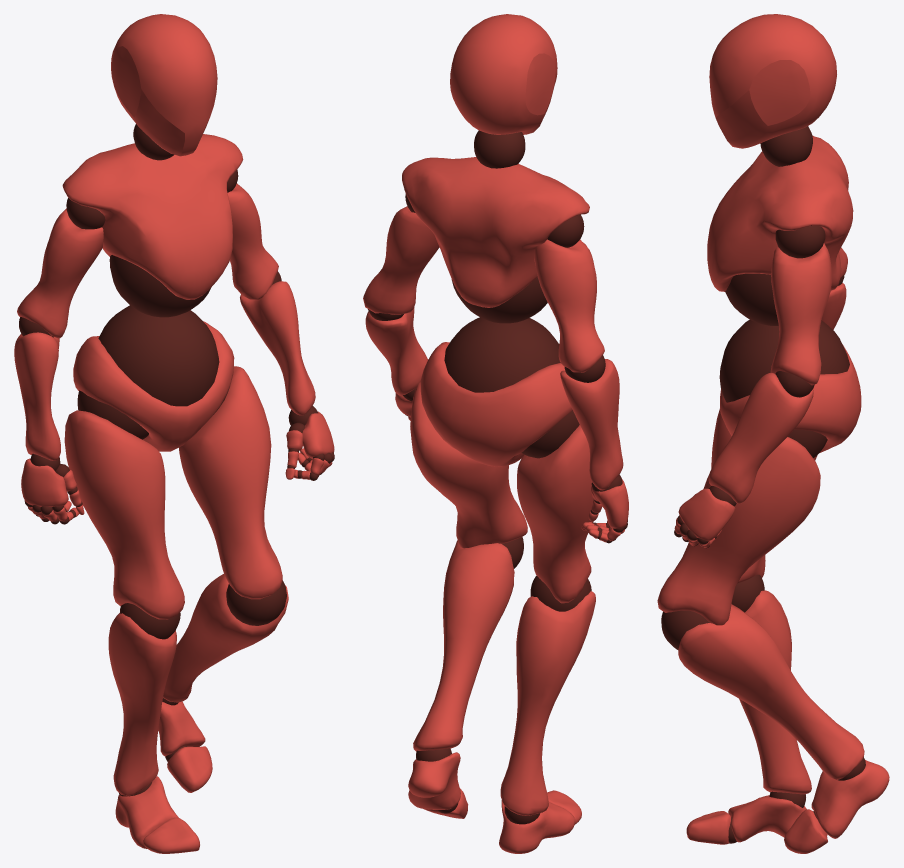
File: senhora.obj
The picture shows the model from 3 angles, left to right: view 1: azimuth 30°, elevation 25°; view 2: azimuth 150°, elevation 25°; view 3: azimuth 270°, elevation 25°; orthographic projection. The views are drawn at different scales.
Parts seen in each view (by area): view 1: Beta_Surface, Beta_Joints; view 2: Beta_Surface, Beta_Joints; view 3: Beta_Surface, Beta_Joints.
Part boxes in pixels (x1,y1,x2,y2): Beta_Surface: (14,14,334,853); Beta_Joints: (19,124,334,796); Beta_Surface: (363,14,628,853); Beta_Joints: (368,130,627,824); Beta_Surface: (657,14,889,853); Beta_Joints: (661,126,865,843).
Size of the model in its own units: 0.6148 by 1.78 by 0.4505.
